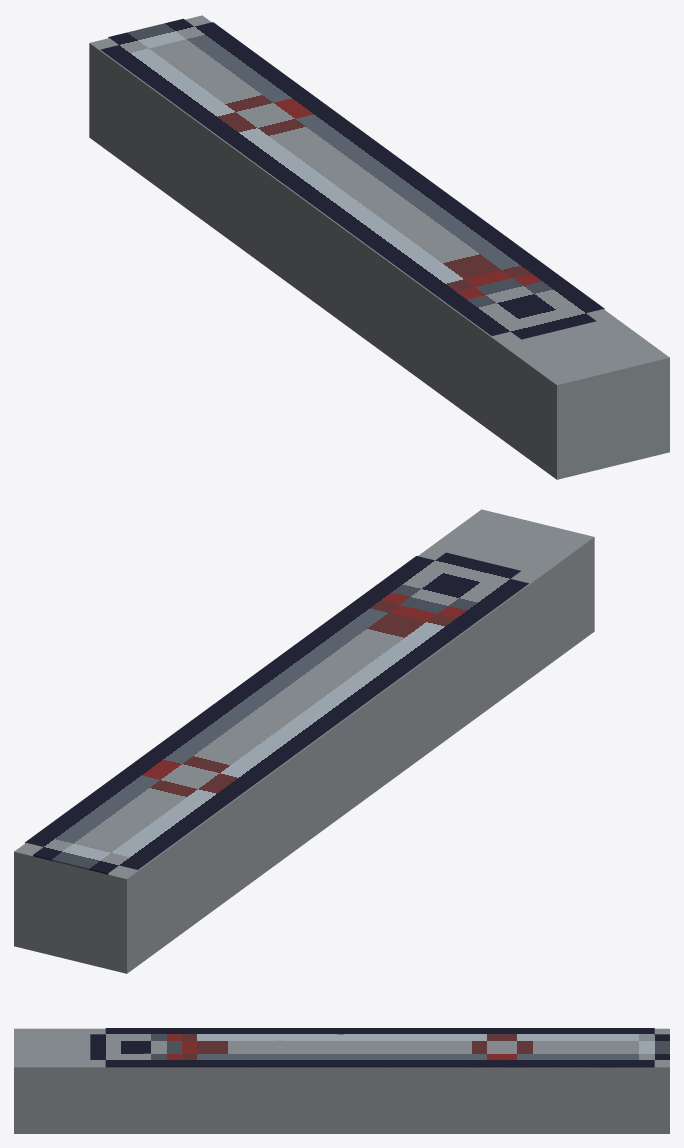
File: CMU3DReduxVehicleTankAutocannonTWEMounted.glb
The picture shows the model from 3 angles, top to bottom: view 1: azimuth 30°, elevation 25°; view 2: azimuth 150°, elevation 25°; view 3: azimuth 270°, elevation 25°; orthographic projection. The views are drawn at different scales.
Parts seen in each view (by area): view 1: weapon section (×5), weapon original finish; view 2: weapon section (×5), weapon original finish; view 3: weapon section (×5), weapon original finish.
Boxes of the visible parts, <box> form: weapon section (×5): <box>89,15,669,479</box>; weapon original finish: <box>100,18,604,339</box>; weapon section (×5): <box>14,509,594,973</box>; weapon original finish: <box>25,552,528,874</box>; weapon section (×5): <box>14,1028,669,1133</box>; weapon original finish: <box>90,1028,669,1067</box>.
Size of the model in its own units: 0.3125 by 0.152 by 1.34.
Materials: 2 (1 with a texture image).
